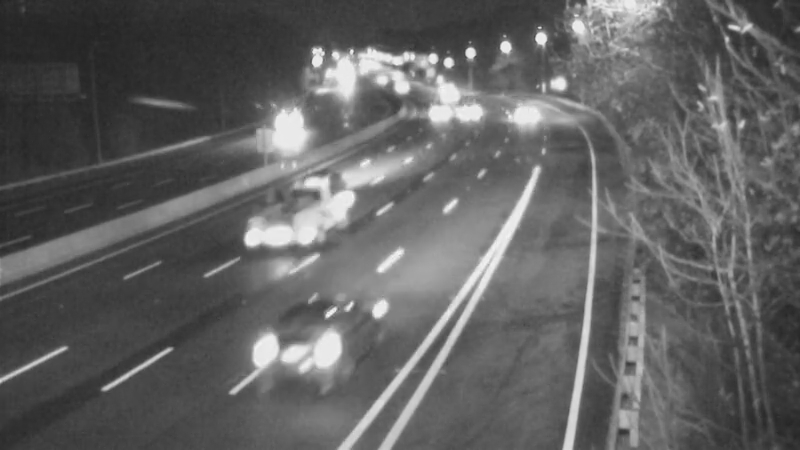vehicle: (235, 301, 345, 411), (274, 141, 354, 221), (273, 169, 353, 249), (418, 87, 468, 137), (437, 88, 487, 138), (496, 88, 546, 138), (256, 95, 306, 145)
